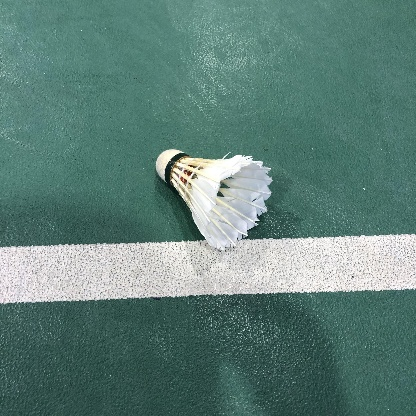ball_single: (156, 149, 273, 250)
